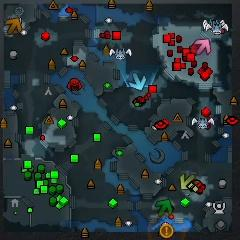Other: (160, 224, 174, 238)
x1: (195, 39, 210, 55)
x2: (180, 173, 197, 191)
x3: (129, 73, 147, 90)
x4: (156, 200, 172, 216)
x5: (5, 17, 22, 34)
